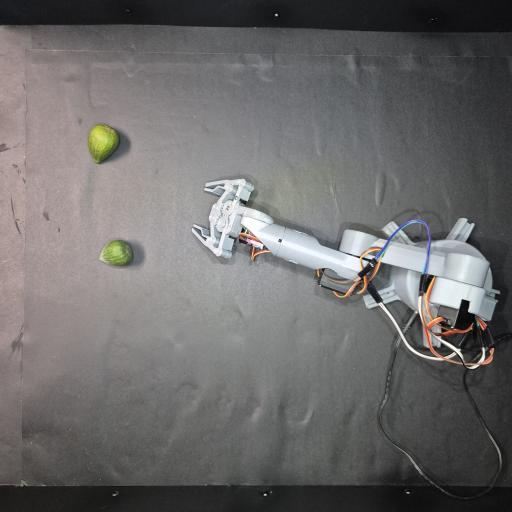higo: (88, 124, 119, 163), (99, 240, 133, 266)
